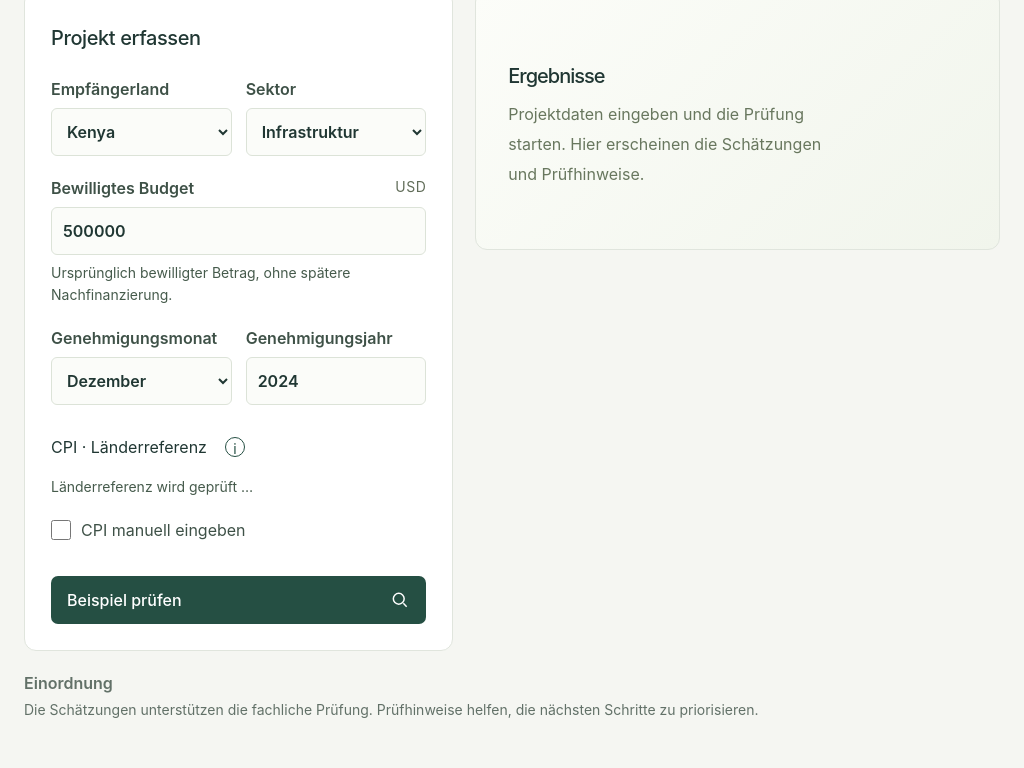
Test case: localizes TimeoutError and permits retry
The image size is (1024, 768).
(page scrolled)
Click the button "Beispiel prüfen". click: [124, 600]
box: [51,576,426,624]
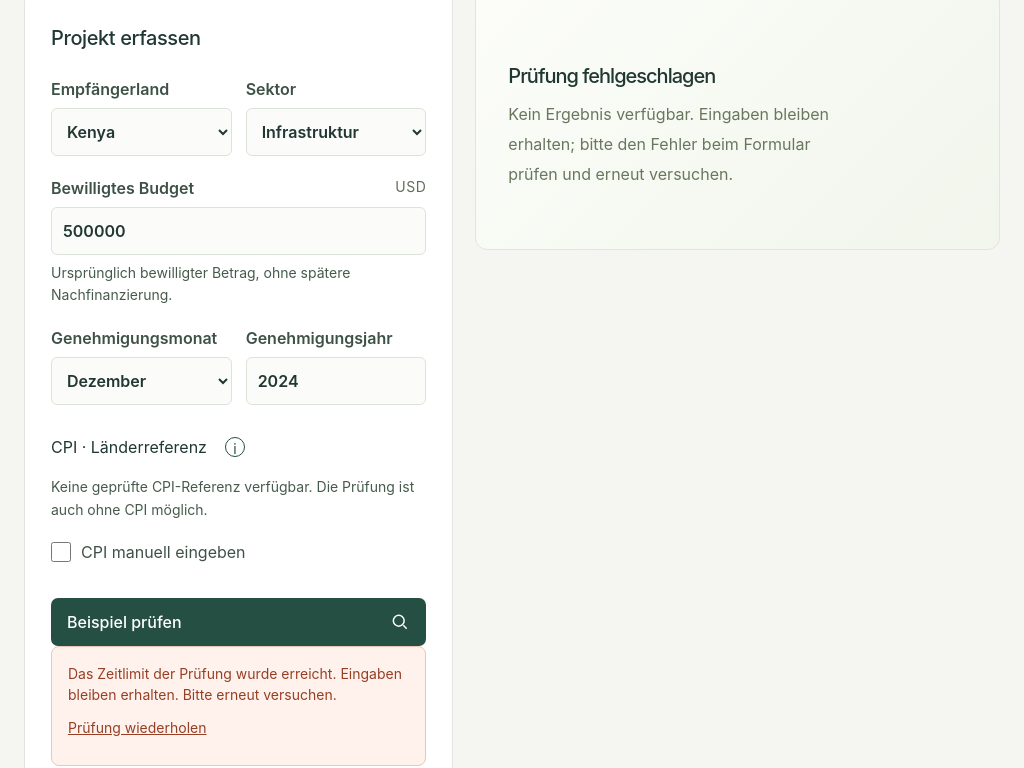
Now the button "Prüfung wiederholen" is enabled, box [68,705,206,749]
